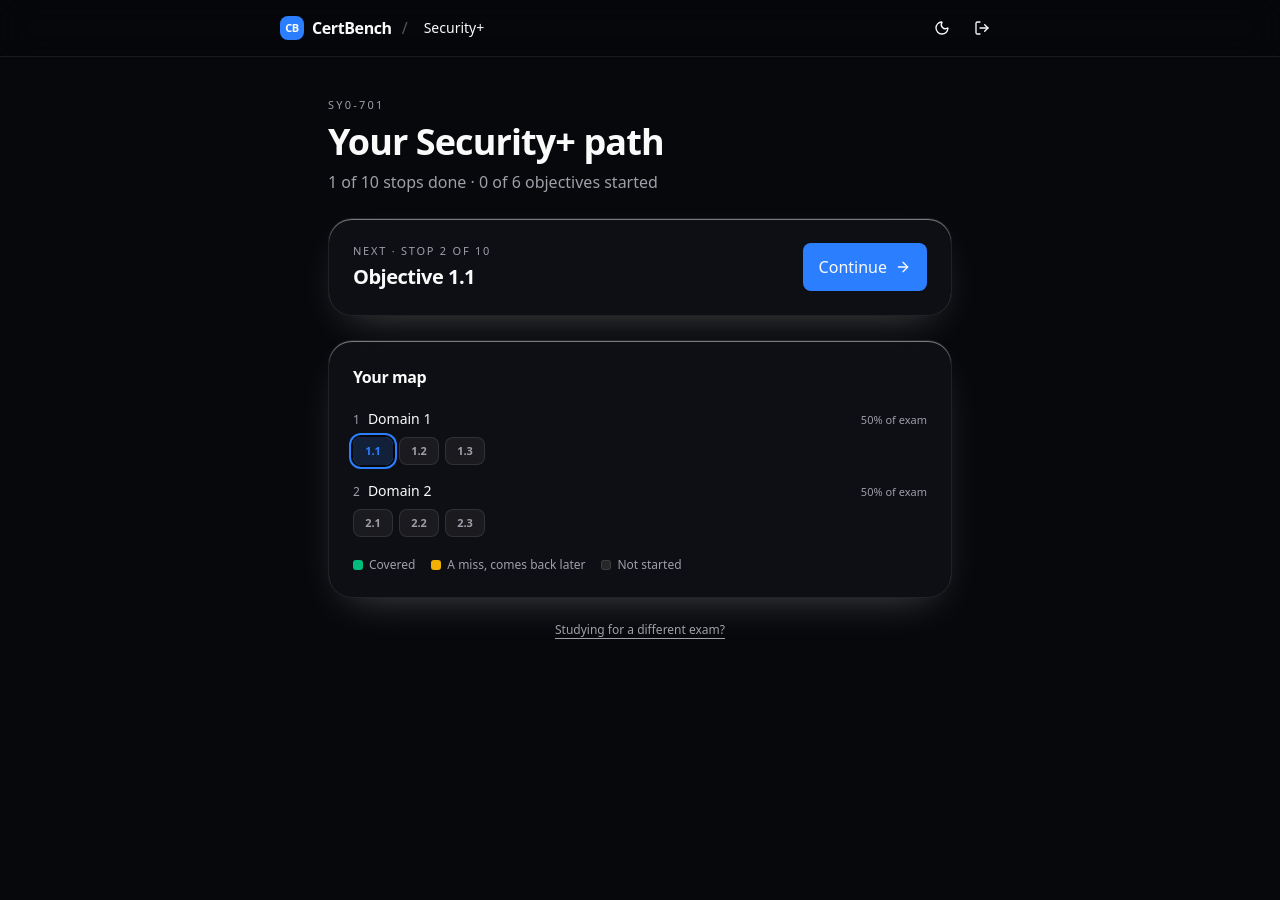
Test: a signed-in learner › continues to the next stop with one tap
Click the button "Continue" at coordinates (865, 267), box [803,243,927,291]
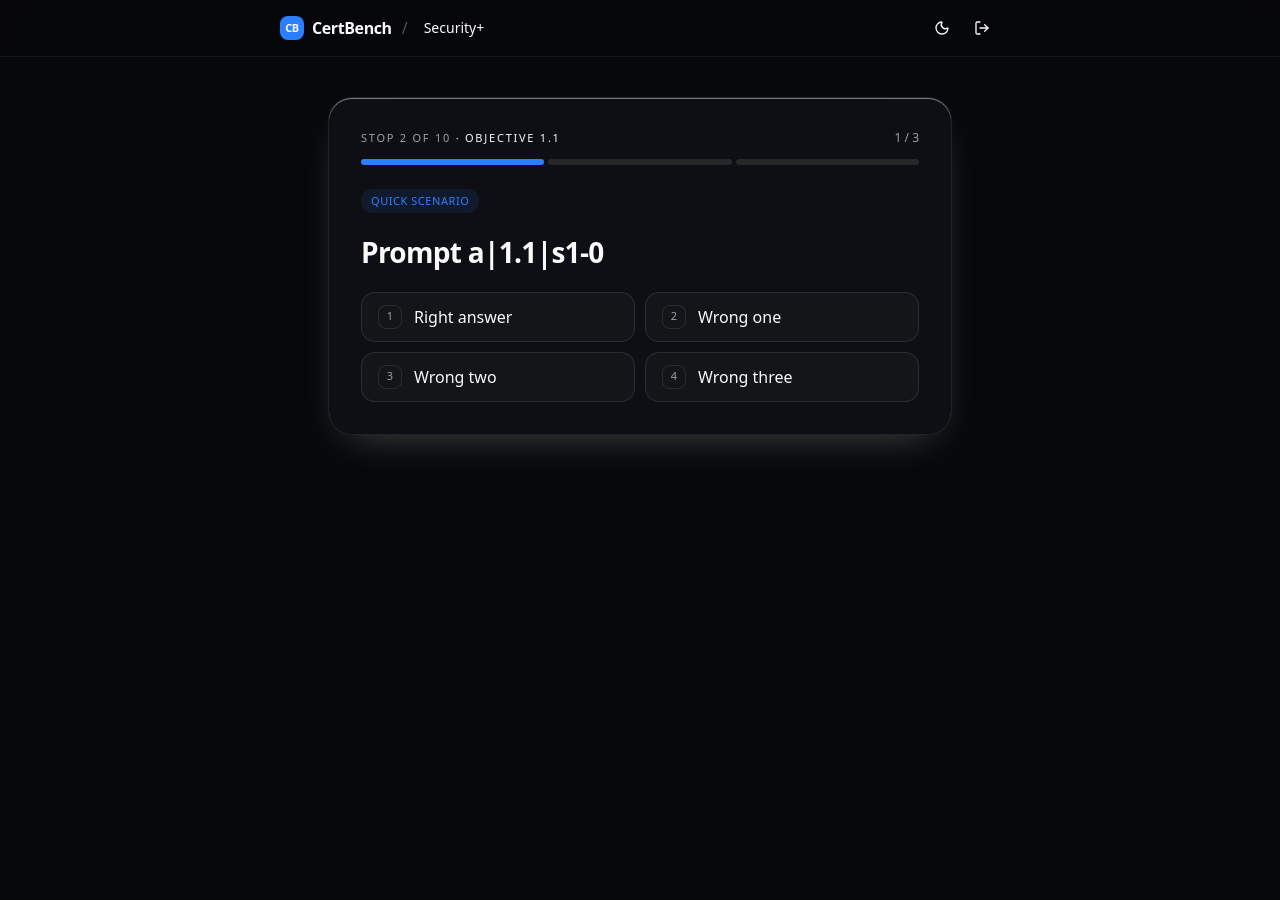
Expected: the heading "Prompt a|1.1|s1-0" is shown, [361,233,604,271]
